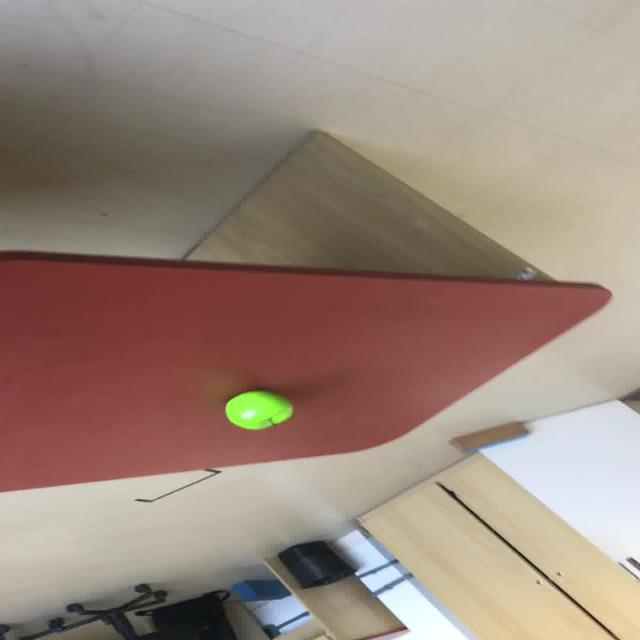apple: (223, 389, 293, 430)
